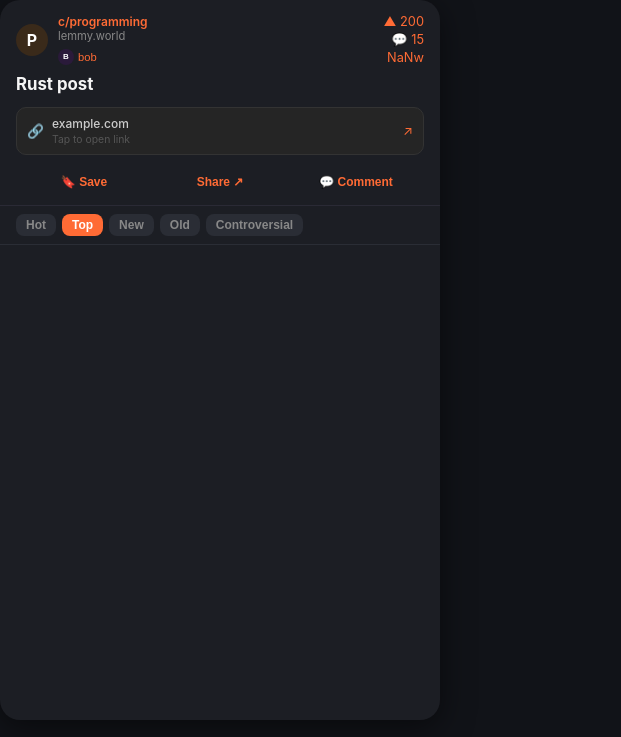
PostCard save button › shows Saved toast after save button is tapped
Click the button with test id "save-button" at [84, 182], box 16,174 -> 152,188
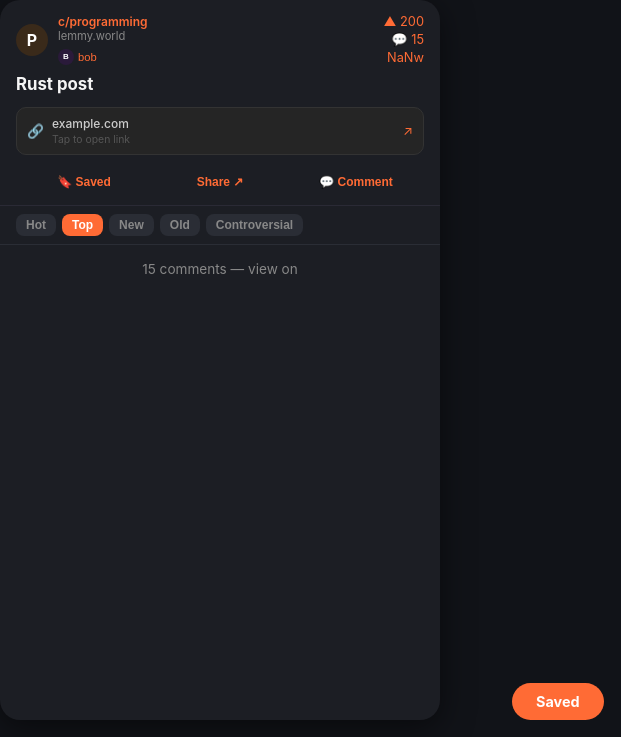
expect the text "Saved" is shown: met, box 512,683 -> 604,720
